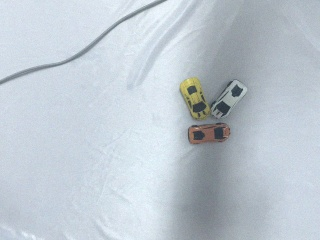toy_car: (211, 80, 247, 119), (180, 78, 211, 120), (188, 123, 230, 144)
